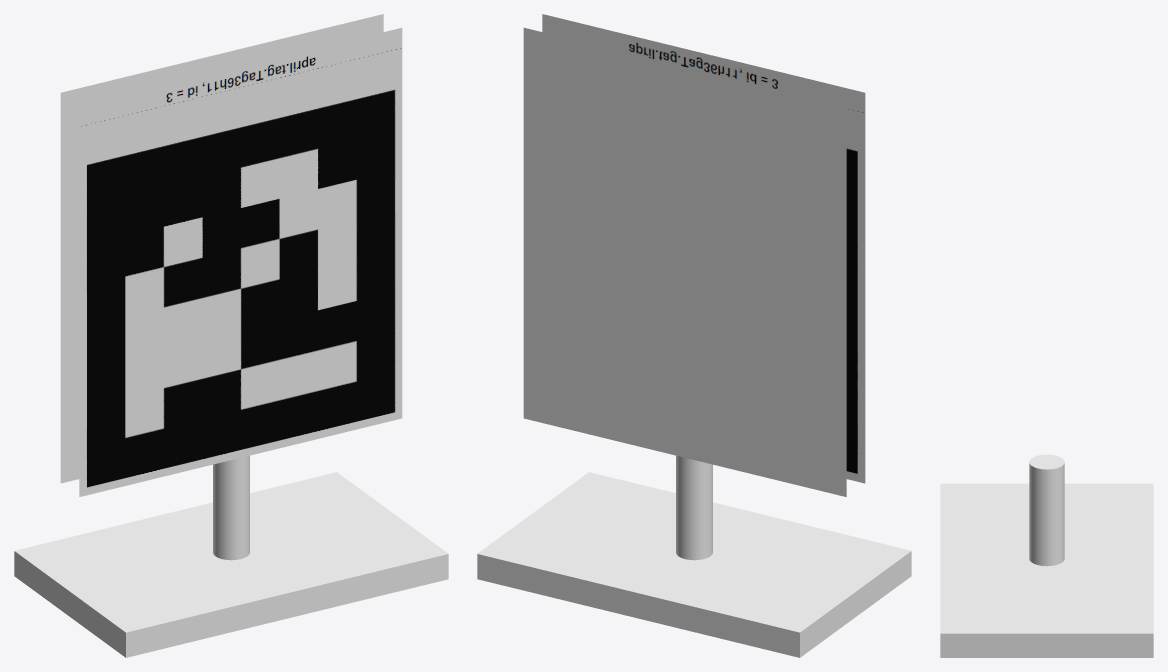
Rendered from tag3.dae.
3 views of the same model, side by side, from view 1: azimuth 30°, elevation 25°; view 2: azimuth 150°, elevation 25°; view 3: azimuth 270°, elevation 25° (orthographic). The views are drawn at different scales.
Parts seen in each view (by area): view 1: image_1, SketchUp (×2), image_0; view 2: image_0, SketchUp (×2), image_1; view 3: SketchUp (×2).
Part boxes in pixels (x1,y1,x2,y2): image_1: [79, 27, 402, 496]; SketchUp (×2): [14, 455, 448, 657]; image_0: [60, 14, 383, 483]; image_0: [523, 27, 846, 496]; SketchUp (×2): [477, 455, 911, 657]; image_1: [542, 14, 865, 483]; SketchUp (×2): [940, 454, 1153, 657].
Bounding box in the file's own units: 7.87 × 4.72 × 12.06.
Materials: 2 (1 with a texture image).
